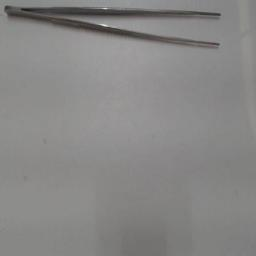DeBakey Dissector: (2, 2, 230, 62)
